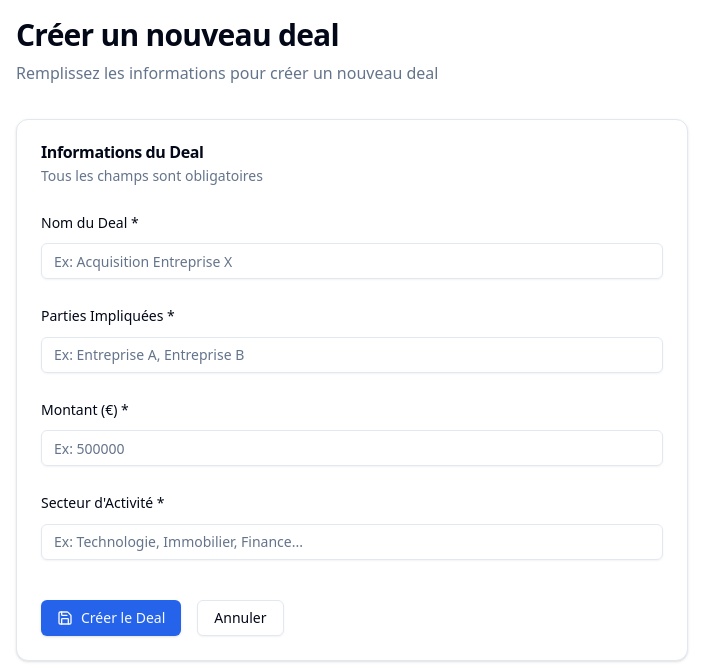
Test: CreateDealPage › should show validation error when nom is empty
(page scrolled)
Click the button "Créer le Deal".
click(111, 618)  # box [41,600,181,636]
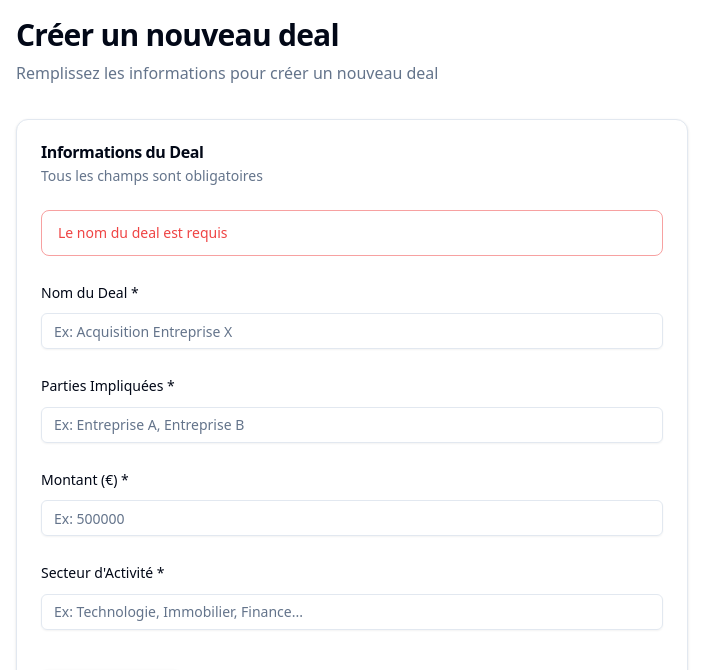
Result: the text "Le nom du deal est requis" is shown at [58,223,228,242]
